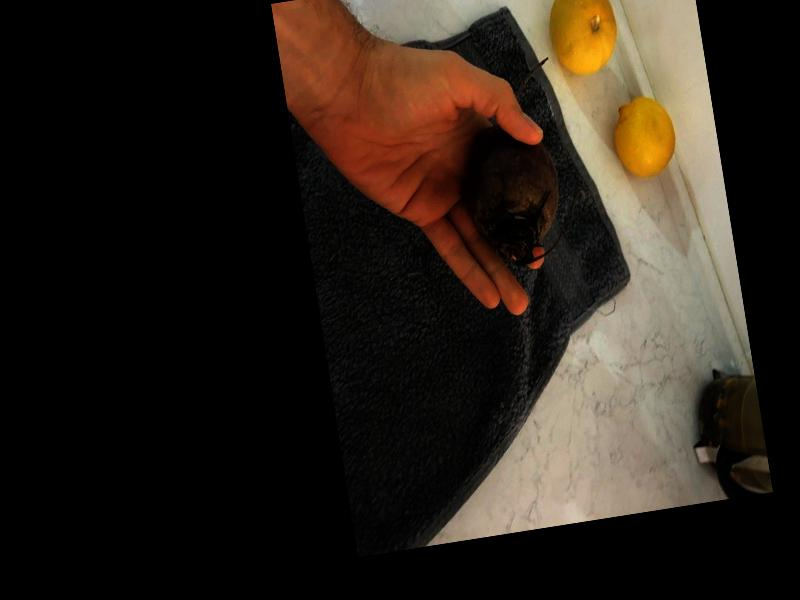Beet: (445, 56, 579, 271)
